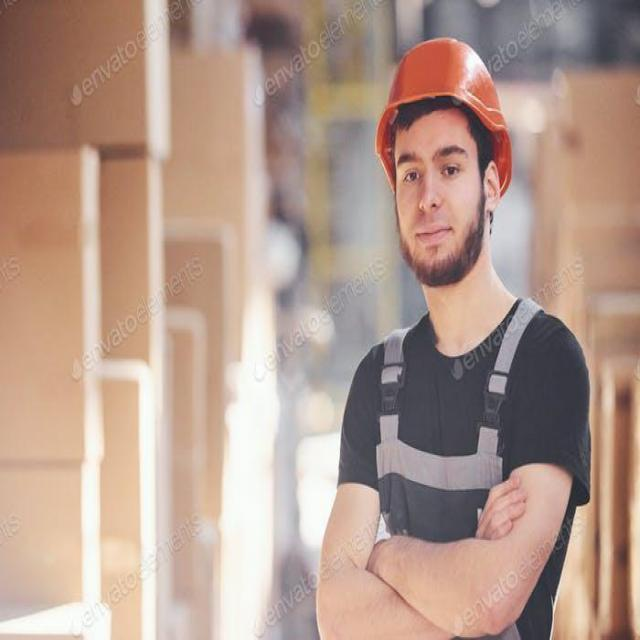hat: (375, 36, 513, 194)
